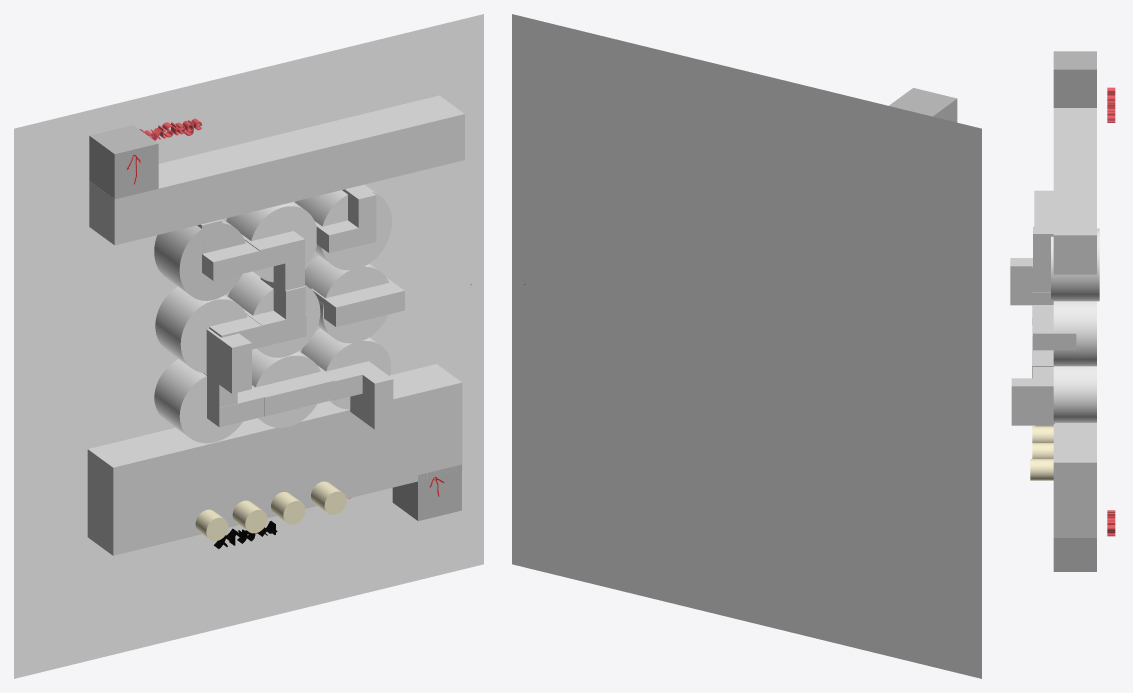
Rendered from 名大祭ダンジョンStage2.glb.
The picture shows the model from 3 angles, left to right: view 1: azimuth 30°, elevation 25°; view 2: azimuth 150°, elevation 25°; view 3: azimuth 270°, elevation 25°; orthographic projection. The views are drawn at different scales.
Visible parts, largest first — view 1: mesh_id1, mesh_id31, mesh_id33, mesh_id47, mesh_id39, mesh_id53, mesh_id59, mesh_id57, mesh_id51, mesh_id29, mesh_id49, mesh_id55 (+22 smaller); view 2: mesh_id1, mesh_id39; view 3: mesh_id33, mesh_id31, mesh_id57, mesh_id39, mesh_id65, mesh_id99, mesh_id51, mesh_id29, mesh_id83, mesh_id89, mesh_id77, mesh_id107 (+10 smaller).
Boxes of the visible parts, bbox=[...] form: mesh_id1: bbox=[14, 14, 483, 678]; mesh_id31: bbox=[87, 364, 462, 555]; mesh_id33: bbox=[89, 95, 464, 245]; mesh_id47: bbox=[154, 219, 245, 300]; mesh_id39: bbox=[89, 125, 158, 199]; mesh_id53: bbox=[155, 286, 247, 373]; mesh_id59: bbox=[154, 359, 242, 443]; mesh_id57: bbox=[305, 255, 389, 343]; mesh_id51: bbox=[295, 184, 391, 270]; mesh_id29: bbox=[392, 464, 461, 520]; mesh_id49: bbox=[226, 202, 316, 282]; mesh_id55: bbox=[228, 271, 320, 357]; mesh_id1: bbox=[512, 14, 981, 678]; mesh_id39: bbox=[889, 88, 957, 122]; mesh_id33: bbox=[1053, 108, 1096, 274]; mesh_id31: bbox=[1053, 423, 1096, 537]; mesh_id57: bbox=[1053, 301, 1096, 366]; mesh_id39: bbox=[1053, 51, 1096, 107]; mesh_id65: bbox=[1053, 366, 1096, 422]; mesh_id99: bbox=[1011, 378, 1054, 425]; mesh_id51: bbox=[1051, 228, 1099, 301]; mesh_id29: bbox=[1053, 538, 1096, 571]; mesh_id83: bbox=[1033, 305, 1076, 350]; mesh_id89: bbox=[1010, 258, 1032, 305]; mesh_id77: bbox=[1033, 226, 1053, 273]; mesh_id107: bbox=[1030, 459, 1053, 480].
Size of the model in its own units: 2.14 by 2.39 by 0.4999.
37 materials, 4 textured.
